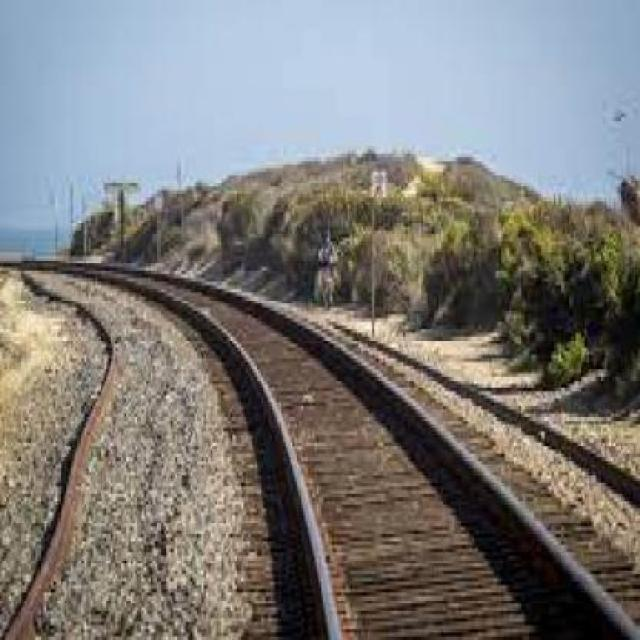rail: (11, 248, 638, 638)
